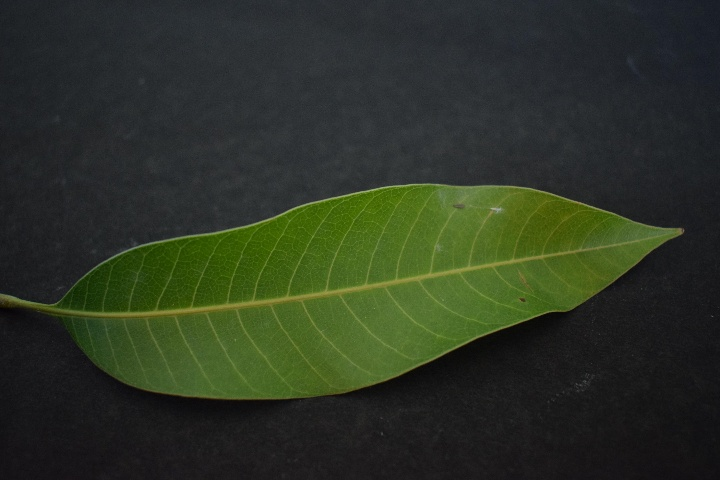healthy: (60, 180, 635, 389)
